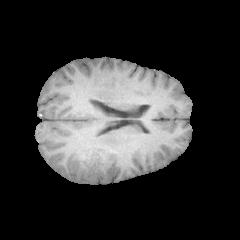glioma: (71, 138, 117, 182)
